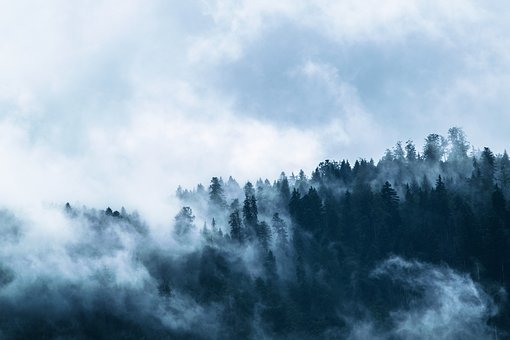mountain: (7, 159, 506, 338)
sky: (3, 4, 510, 163)
